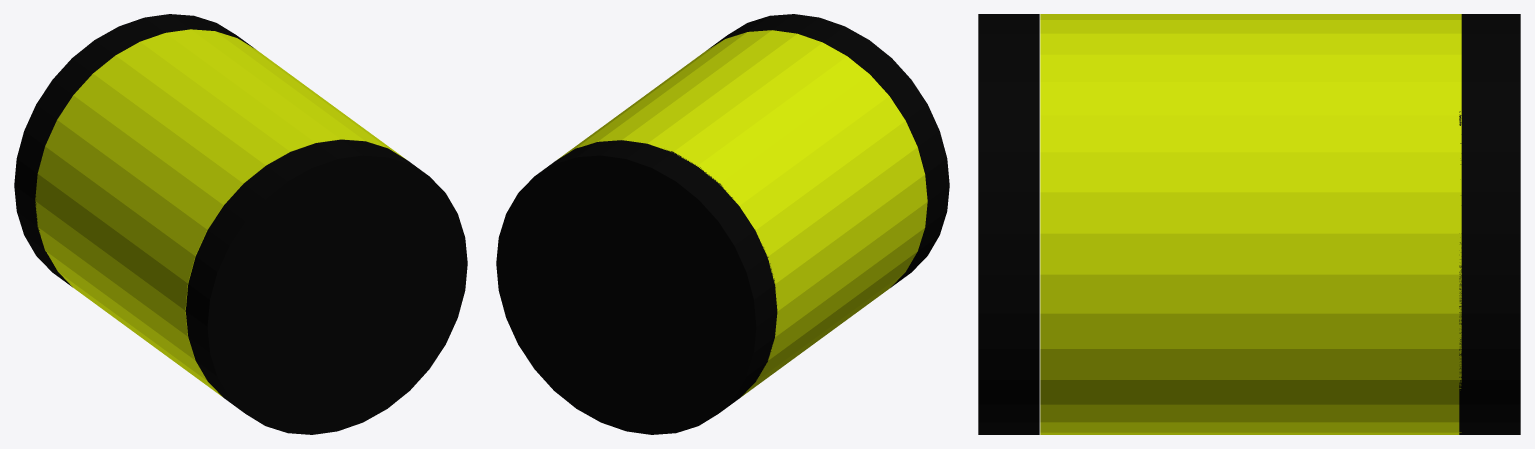
3 views of the same model, side by side, from view 1: azimuth 30°, elevation 25°; view 2: azimuth 150°, elevation 25°; view 3: azimuth 270°, elevation 25° (orthographic). The views are drawn at different scales.
Visible parts, largest first — view 1: Cylinder.001, Cylinder, Cylinder.002; view 2: Cylinder.002, Cylinder, Cylinder.001; view 3: Cylinder, Cylinder.001, Cylinder.002.
Part boxes in pixels (x1,y1,x2,y2): Cylinder.001: [185, 139, 467, 434]; Cylinder: [35, 29, 406, 396]; Cylinder.002: [14, 14, 254, 287]; Cylinder.002: [496, 140, 777, 434]; Cylinder: [557, 30, 927, 396]; Cylinder.001: [708, 14, 949, 287]; Cylinder: [1040, 14, 1461, 434]; Cylinder.001: [978, 14, 1039, 434]; Cylinder.002: [1459, 14, 1520, 434].
Size of the model in its own units: 200 by 200 by 257.
